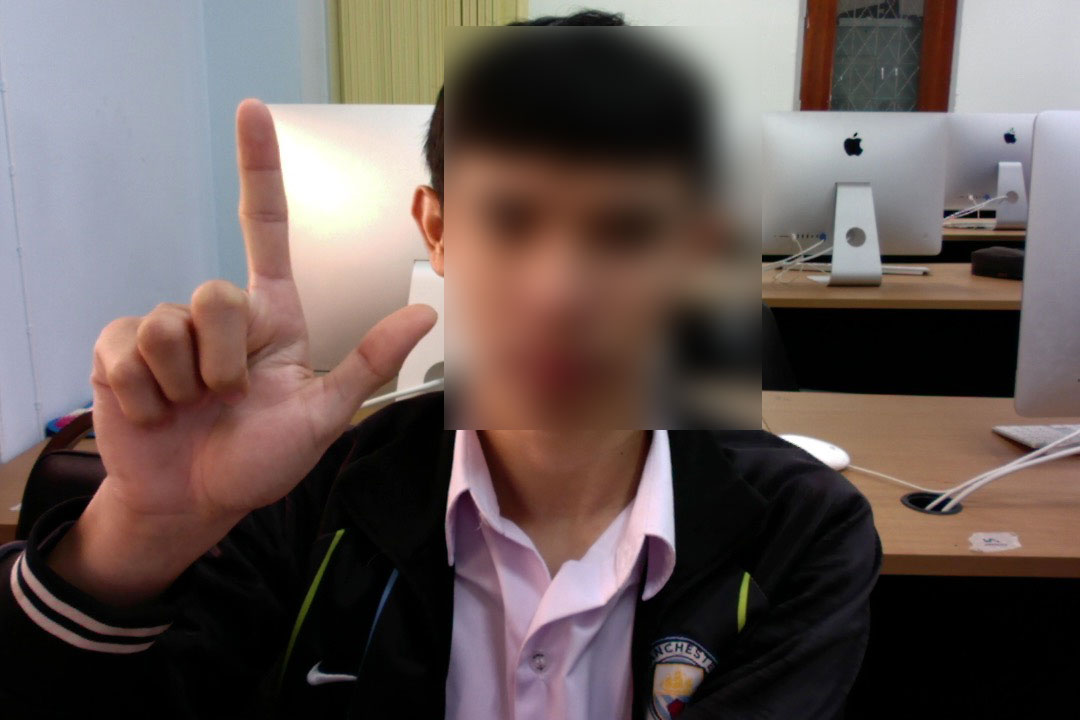lor: (68, 93, 444, 537)
